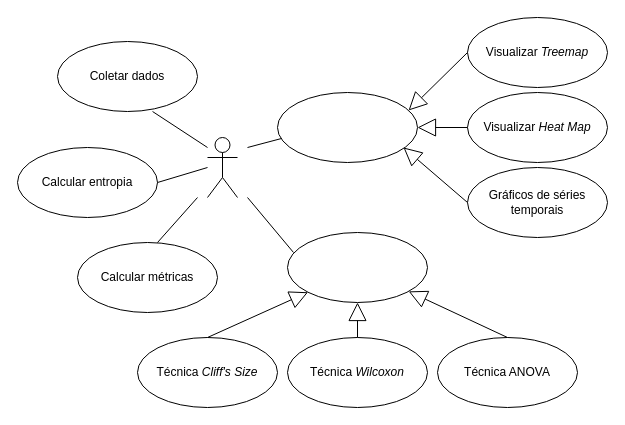
The diagram is 625 pixels wide and 425 high, and some of its shapes have lost their labels. Here are the shapes that lost their labels. From the top down, the box of each, then its label:
(276, 92, 418, 162): Visualizar dados
(206, 136, 238, 198): Usuário
(286, 232, 428, 302): Gerar relatórios estatísticos
